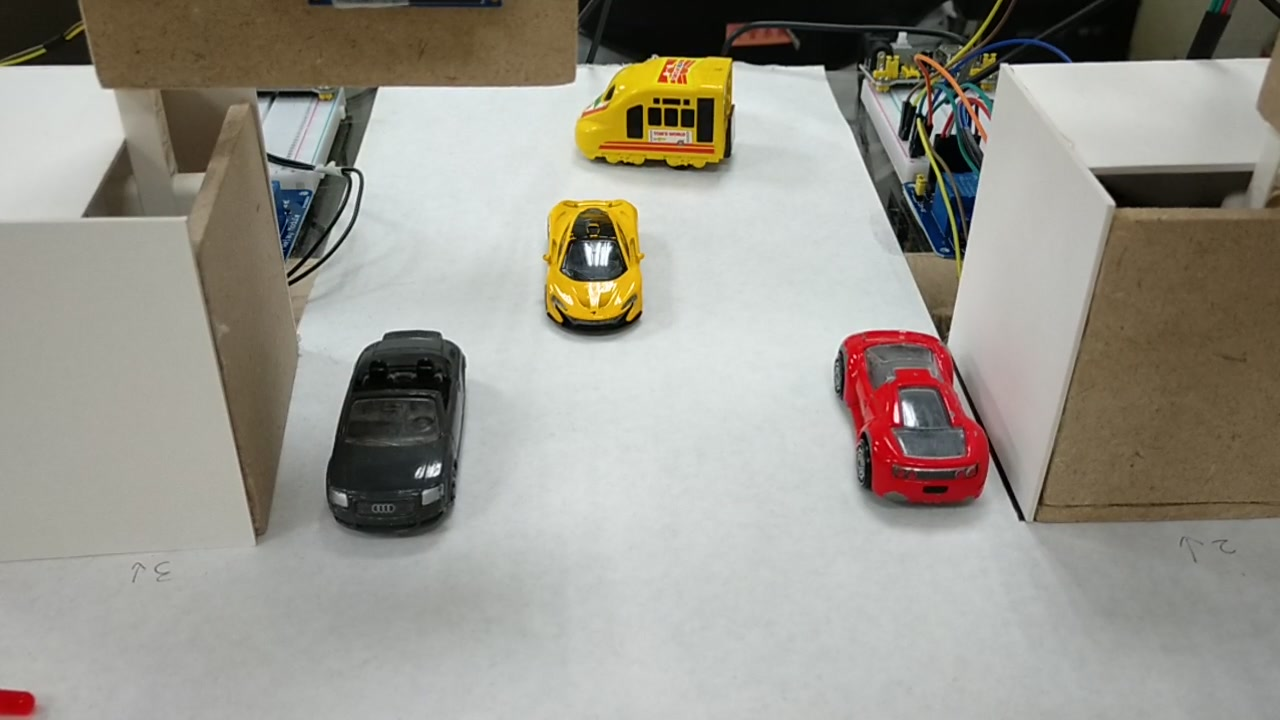car: (327, 326, 461, 532), (847, 323, 981, 517), (546, 194, 637, 329)
